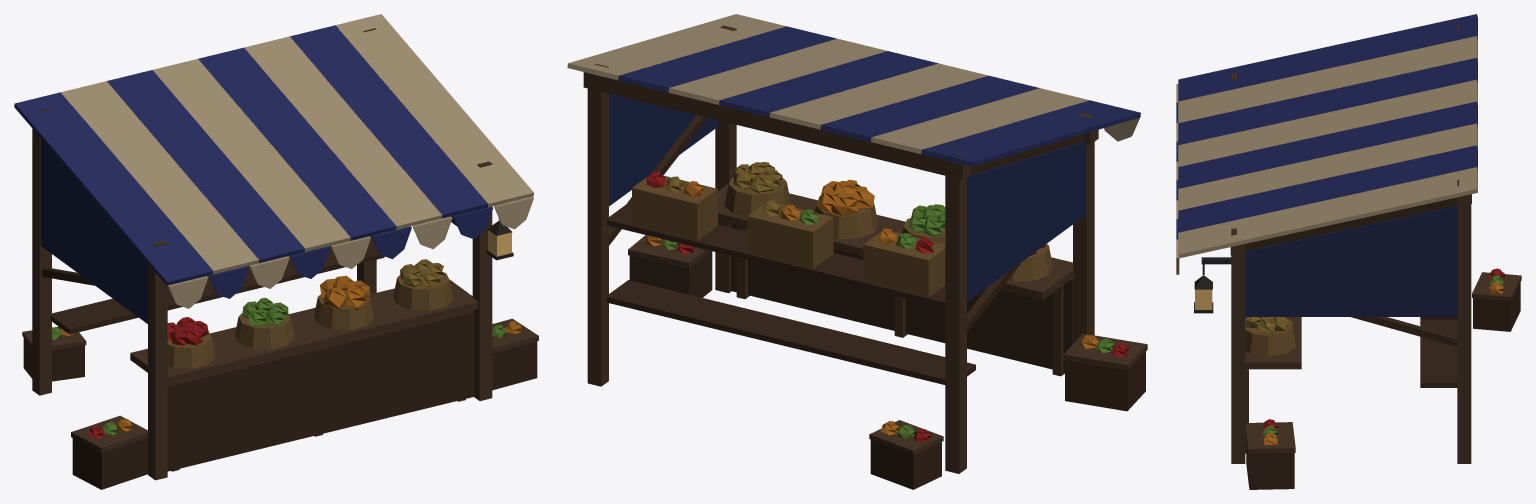
The model's file is market-stall-produce.glb.
3 renders of one model, left to right at view 1: azimuth 30°, elevation 25°; view 2: azimuth 150°, elevation 25°; view 3: azimuth 270°, elevation 25°, orthographic. The views are drawn at different scales.
Parts seen in each view (by area): view 1: market-stall-produce; view 2: market-stall-produce; view 3: market-stall-produce.
Part boxes in pixels (left/top/right/bottom): market-stall-produce: left=14, top=14, right=538, bottom=489; market-stall-produce: left=567, top=14, right=1147, bottom=489; market-stall-produce: left=1176, top=14, right=1521, bottom=489.
Bounding box in the file's own units: 4.71 × 2.89 × 3.21.
